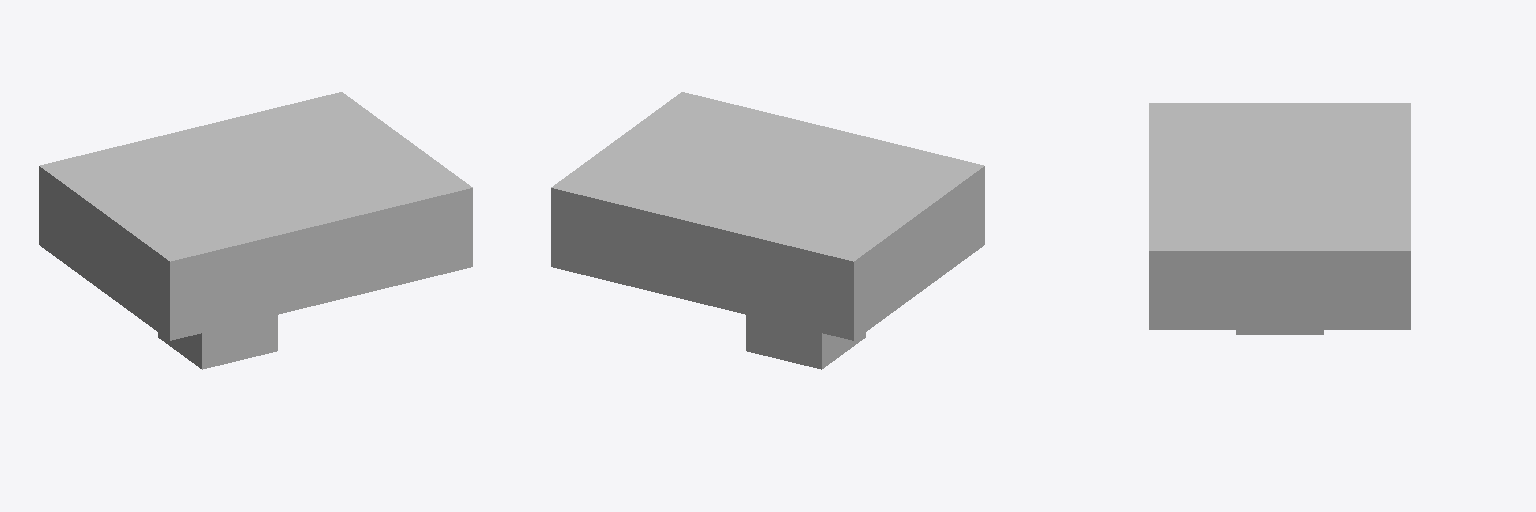
File: prefabRoad1.obj
3 renders of one model, left to right at view 1: azimuth 30°, elevation 25°; view 2: azimuth 150°, elevation 25°; view 3: azimuth 270°, elevation 25°, orthographic.
Visible parts, largest first — view 1: Cube; view 2: Cube; view 3: Cube.
Boxes of the visible parts, x1,y1,x2,y2 form: Cube: [39, 92, 472, 369]; Cube: [551, 92, 984, 369]; Cube: [1149, 103, 1410, 334].
Size of the model in its own units: 8 by 4 by 6.